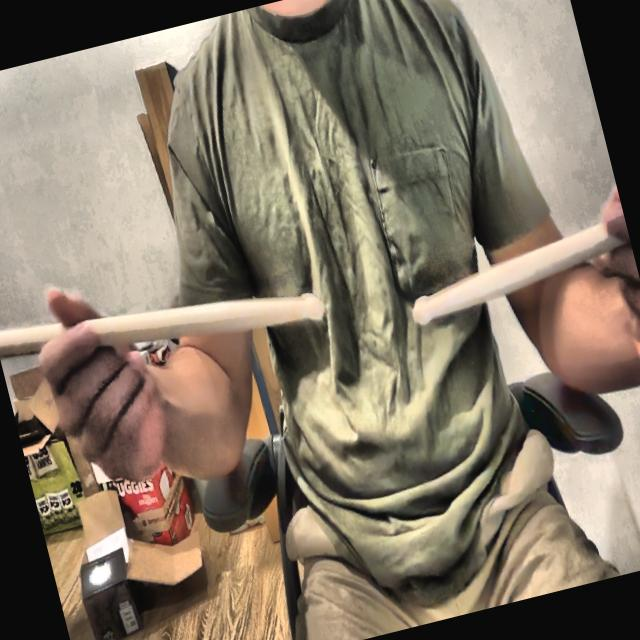Drumstick-Heads: (298, 282, 328, 328), (404, 293, 437, 328)
